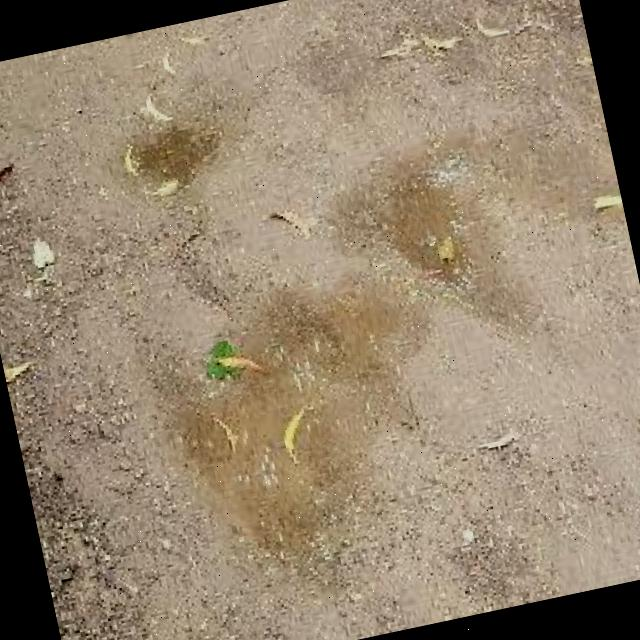stagnation: (324, 127, 538, 310), (102, 105, 248, 196)
